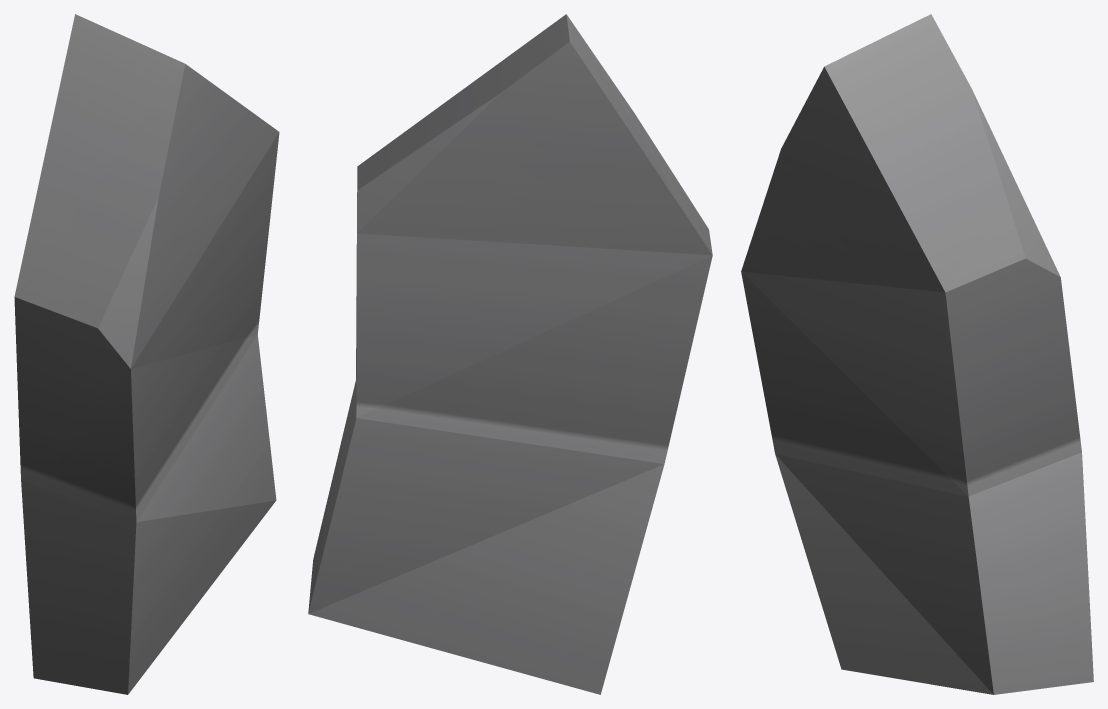
File: ea_grave_stone_mini_01c_pre__24__lev1.glb
3 views of the same model, side by side, from view 1: azimuth 30°, elevation 25°; view 2: azimuth 150°, elevation 25°; view 3: azimuth 270°, elevation 25° (orthographic). The views are drawn at different scales.
Parts seen in each view (by area): view 1: ea_grave_stone_mini_01c_pre__24__lev1; view 2: ea_grave_stone_mini_01c_pre__24__lev1; view 3: ea_grave_stone_mini_01c_pre__24__lev1.
Part boxes in pixels (x1,y1,x2,y2): ea_grave_stone_mini_01c_pre__24__lev1: [14, 14, 279, 694]; ea_grave_stone_mini_01c_pre__24__lev1: [308, 14, 712, 694]; ea_grave_stone_mini_01c_pre__24__lev1: [741, 14, 1093, 694].
Bounding box in the file's own units: 0.7053 × 1.32 × 0.6394.
1 material, 1 textured.
